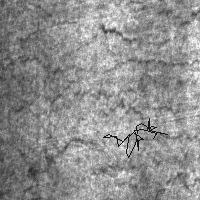crazing: (8, 76, 200, 166), (57, 5, 199, 73), (103, 118, 167, 157)
